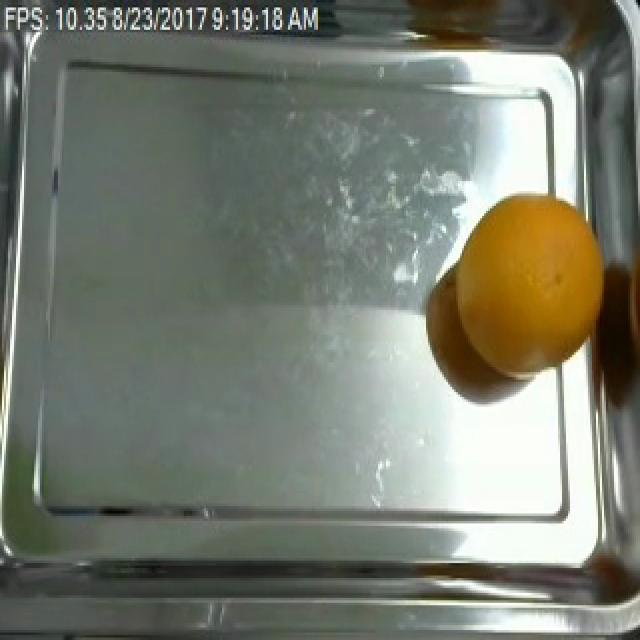Fruit: (454, 189, 610, 382)
